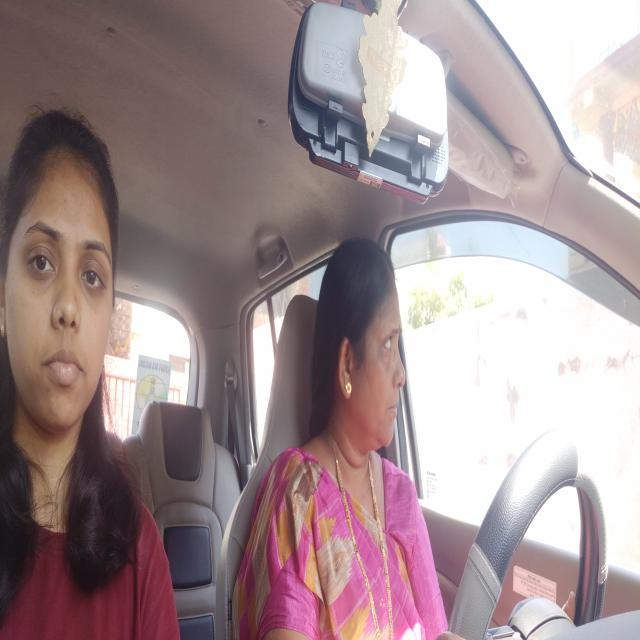LeftRight: (316, 224, 408, 449)
person: (4, 106, 120, 455)
